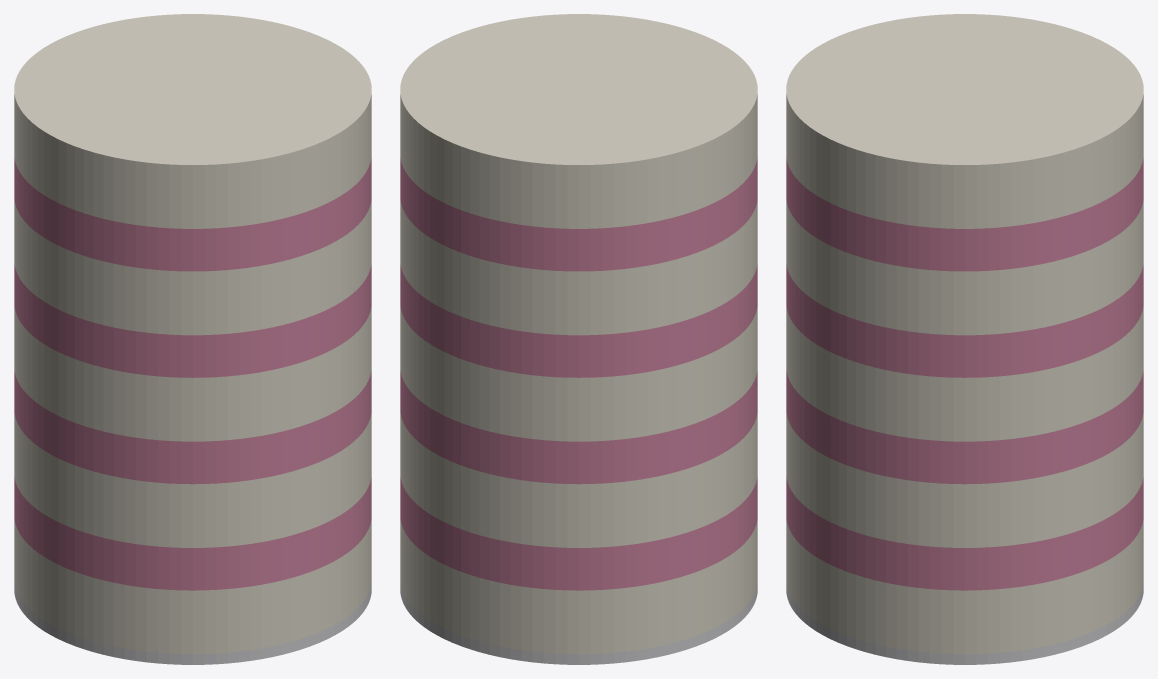
The model's file is cake_6in_layers5.glb.
The picture shows the model from 3 angles, left to right: view 1: azimuth 30°, elevation 25°; view 2: azimuth 150°, elevation 25°; view 3: azimuth 270°, elevation 25°; orthographic projection.
Visible parts, largest first — view 1: geometry_8, geometry_0, geometry_4, geometry_6, geometry_2, geometry_7, geometry_1, geometry_3, geometry_5, geometry_9; view 2: geometry_8, geometry_0, geometry_4, geometry_6, geometry_2, geometry_7, geometry_1, geometry_3, geometry_5, geometry_9; view 3: geometry_8, geometry_0, geometry_4, geometry_6, geometry_2, geometry_7, geometry_1, geometry_3, geometry_5, geometry_9.
Boxes of the visible parts, box(x1,y1,x2,y2) form: geometry_8: box(14, 14, 371, 228); geometry_0: box(14, 519, 371, 654); geometry_4: box(14, 307, 371, 441); geometry_6: box(14, 200, 371, 335); geometry_2: box(14, 413, 371, 547); geometry_7: box(14, 158, 371, 271); geometry_1: box(14, 477, 371, 590); geometry_3: box(14, 370, 371, 484); geometry_5: box(14, 264, 371, 377); geometry_9: box(14, 583, 371, 664); geometry_8: box(400, 14, 757, 228); geometry_0: box(400, 519, 757, 654); geometry_4: box(400, 307, 757, 441); geometry_6: box(400, 200, 757, 335); geometry_2: box(400, 413, 757, 547); geometry_7: box(400, 158, 757, 271); geometry_1: box(400, 477, 757, 590); geometry_3: box(400, 370, 757, 484); geometry_5: box(400, 264, 757, 377); geometry_9: box(400, 583, 757, 664); geometry_8: box(786, 14, 1143, 228); geometry_0: box(786, 519, 1143, 654); geometry_4: box(786, 307, 1143, 441); geometry_6: box(786, 200, 1143, 335); geometry_2: box(786, 413, 1143, 547); geometry_7: box(786, 158, 1143, 271); geometry_1: box(786, 477, 1143, 590); geometry_3: box(786, 370, 1143, 484); geometry_5: box(786, 264, 1143, 377); geometry_9: box(786, 583, 1143, 664).
Size of the model in its own units: 0.1524 by 0.235 by 0.1524.
